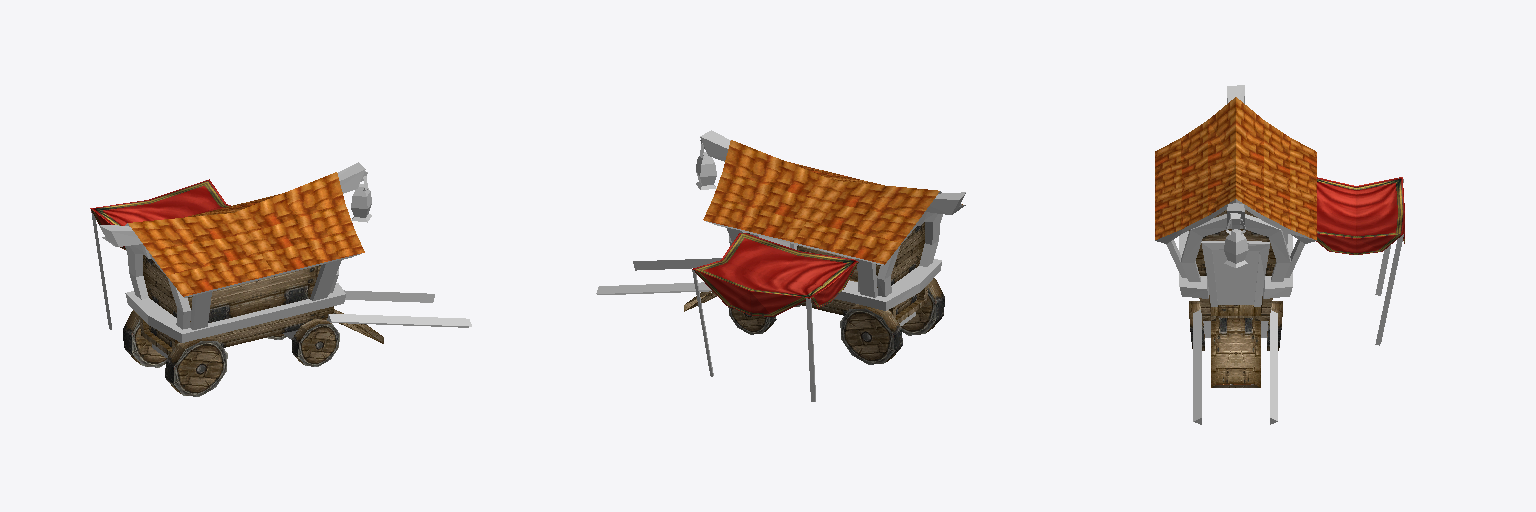
The picture shows the model from 3 angles: view 1: azimuth 30°, elevation 25°; view 2: azimuth 150°, elevation 25°; view 3: azimuth 270°, elevation 25°; orthographic projection.
Visible parts, largest first — view 1: StormwindGypsywagon01; view 2: StormwindGypsywagon01; view 3: StormwindGypsywagon01.
Boxes of the visible parts, x1=… form: StormwindGypsywagon01: x1=90, y1=162, x2=471, y2=396; StormwindGypsywagon01: x1=596, y1=130, x2=965, y2=401; StormwindGypsywagon01: x1=1155, y1=85, x2=1404, y2=424.
Bounding box in the file's own units: 11.49 × 5.42 × 7.15.
Materials: 4 (2 with a texture image).